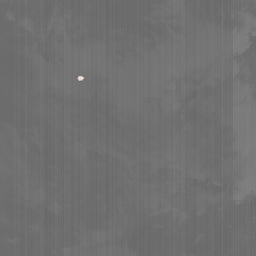Target: (76, 75, 85, 80)
